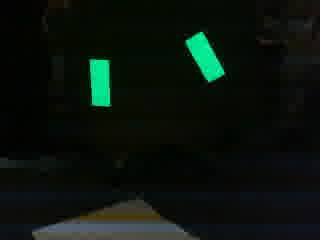target: (83, 29, 225, 108)
